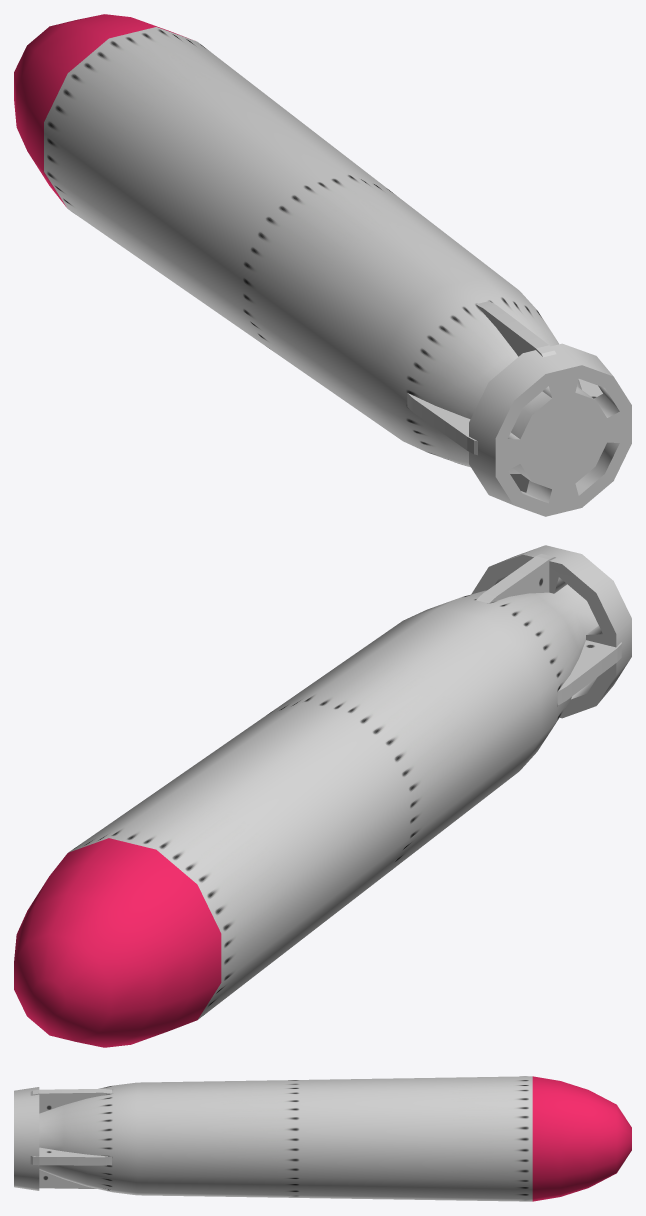
The model's file is misail_tset.FBX.
3 renders of one model, top to bottom at view 1: azimuth 30°, elevation 25°; view 2: azimuth 150°, elevation 25°; view 3: azimuth 270°, elevation 25°, orthographic. The views are drawn at different scales.
Visible parts, largest first — view 1: misail_1; view 2: misail_1; view 3: misail_1.
Boxes of the visible parts, x1,y1,x2,y2 form: misail_1: (14, 14, 631, 516); misail_1: (14, 545, 631, 1047); misail_1: (14, 1076, 631, 1201).
Bounding box in the file's own units: 48.3 × 48.3 × 243.
Materials: 2 (2 with a texture image).
